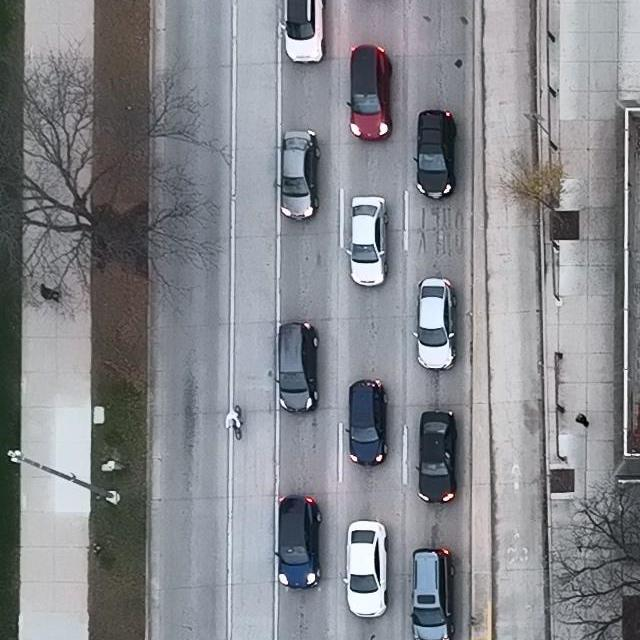car: (273, 495, 323, 590), (343, 519, 389, 619), (347, 43, 394, 140), (274, 321, 320, 413), (409, 548, 455, 640), (413, 278, 458, 371), (275, 129, 320, 220), (345, 196, 389, 286), (415, 411, 458, 503), (344, 379, 388, 466), (414, 110, 456, 200), (280, 0, 327, 63)
